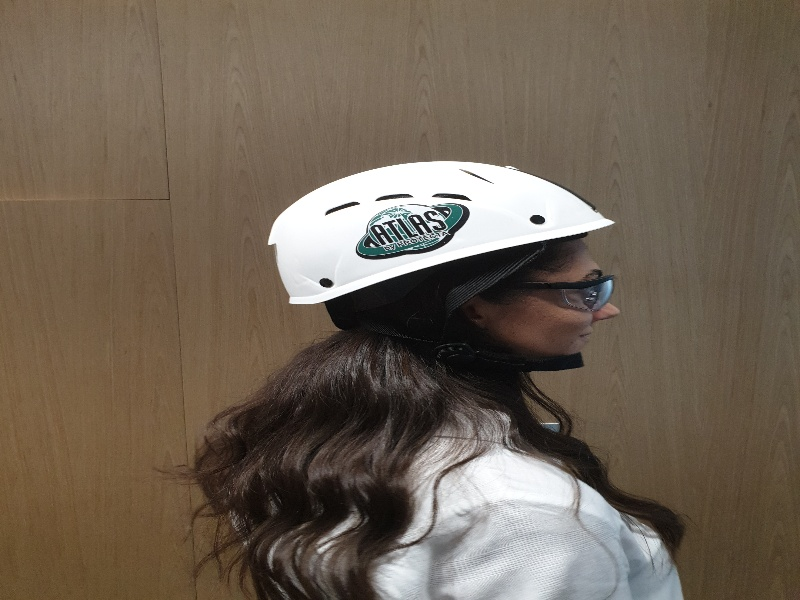Baret: (271, 159, 618, 280)
Gozluk: (501, 276, 616, 307)
